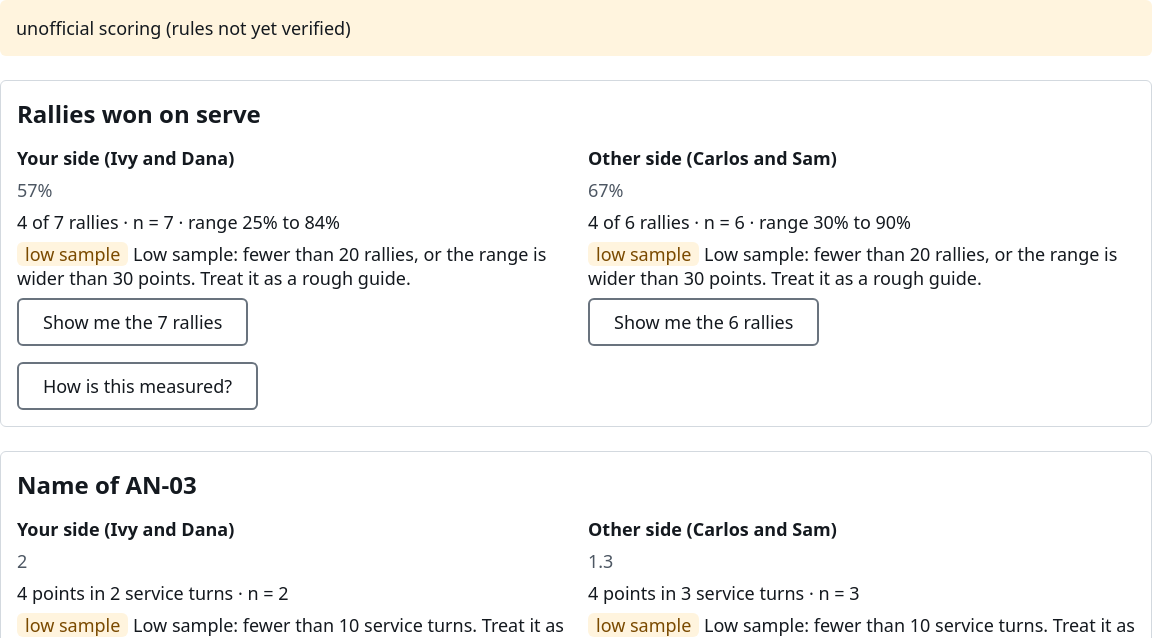
E-01 "Show me" panel (ST-047; E2E-03-02, E2E-03-09) › a stat that is gone (404): says so instead of rally links
Expected: the heading "Rallies won on serve" is shown, [17, 97, 261, 130]
Click the button "Show me the 7 rallies" at (133, 322), box [17, 298, 248, 346]
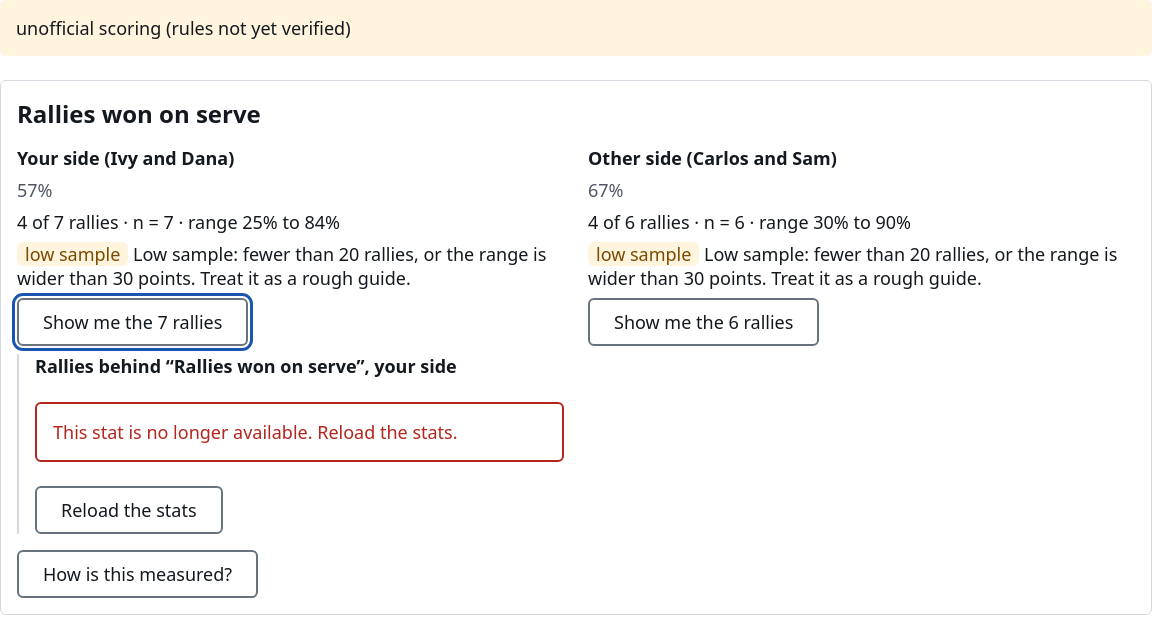
Expected: the message reads "This stat is no longer available. Reload the stats.", [53, 420, 458, 444]
